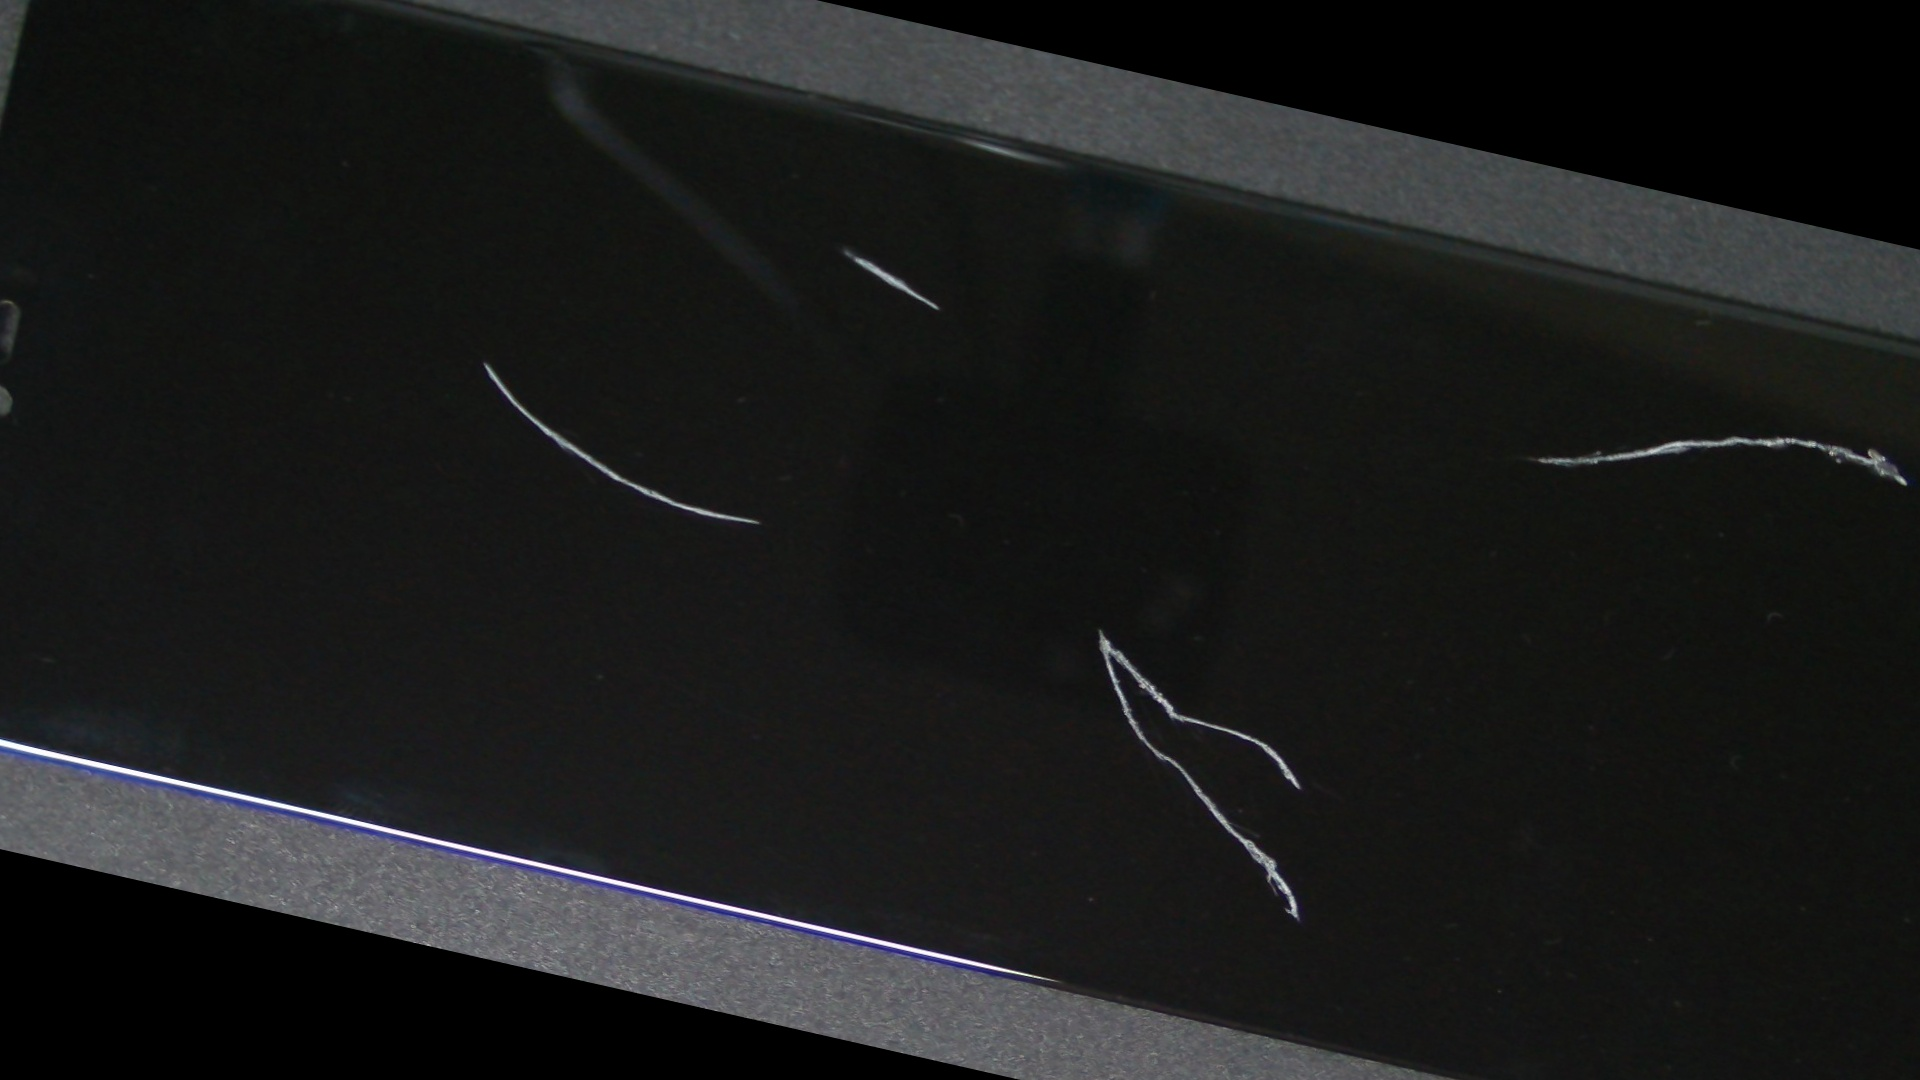oil: (442, 224, 1751, 1030), (907, 135, 1920, 618), (385, 34, 1303, 462), (164, 91, 804, 632)
